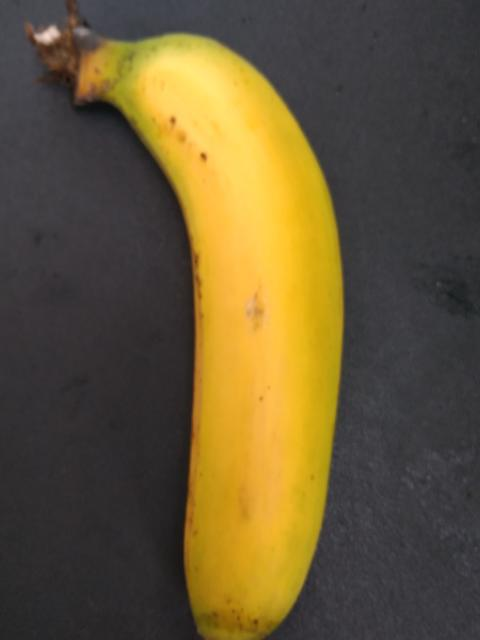freshripe: (93, 32, 361, 639)
